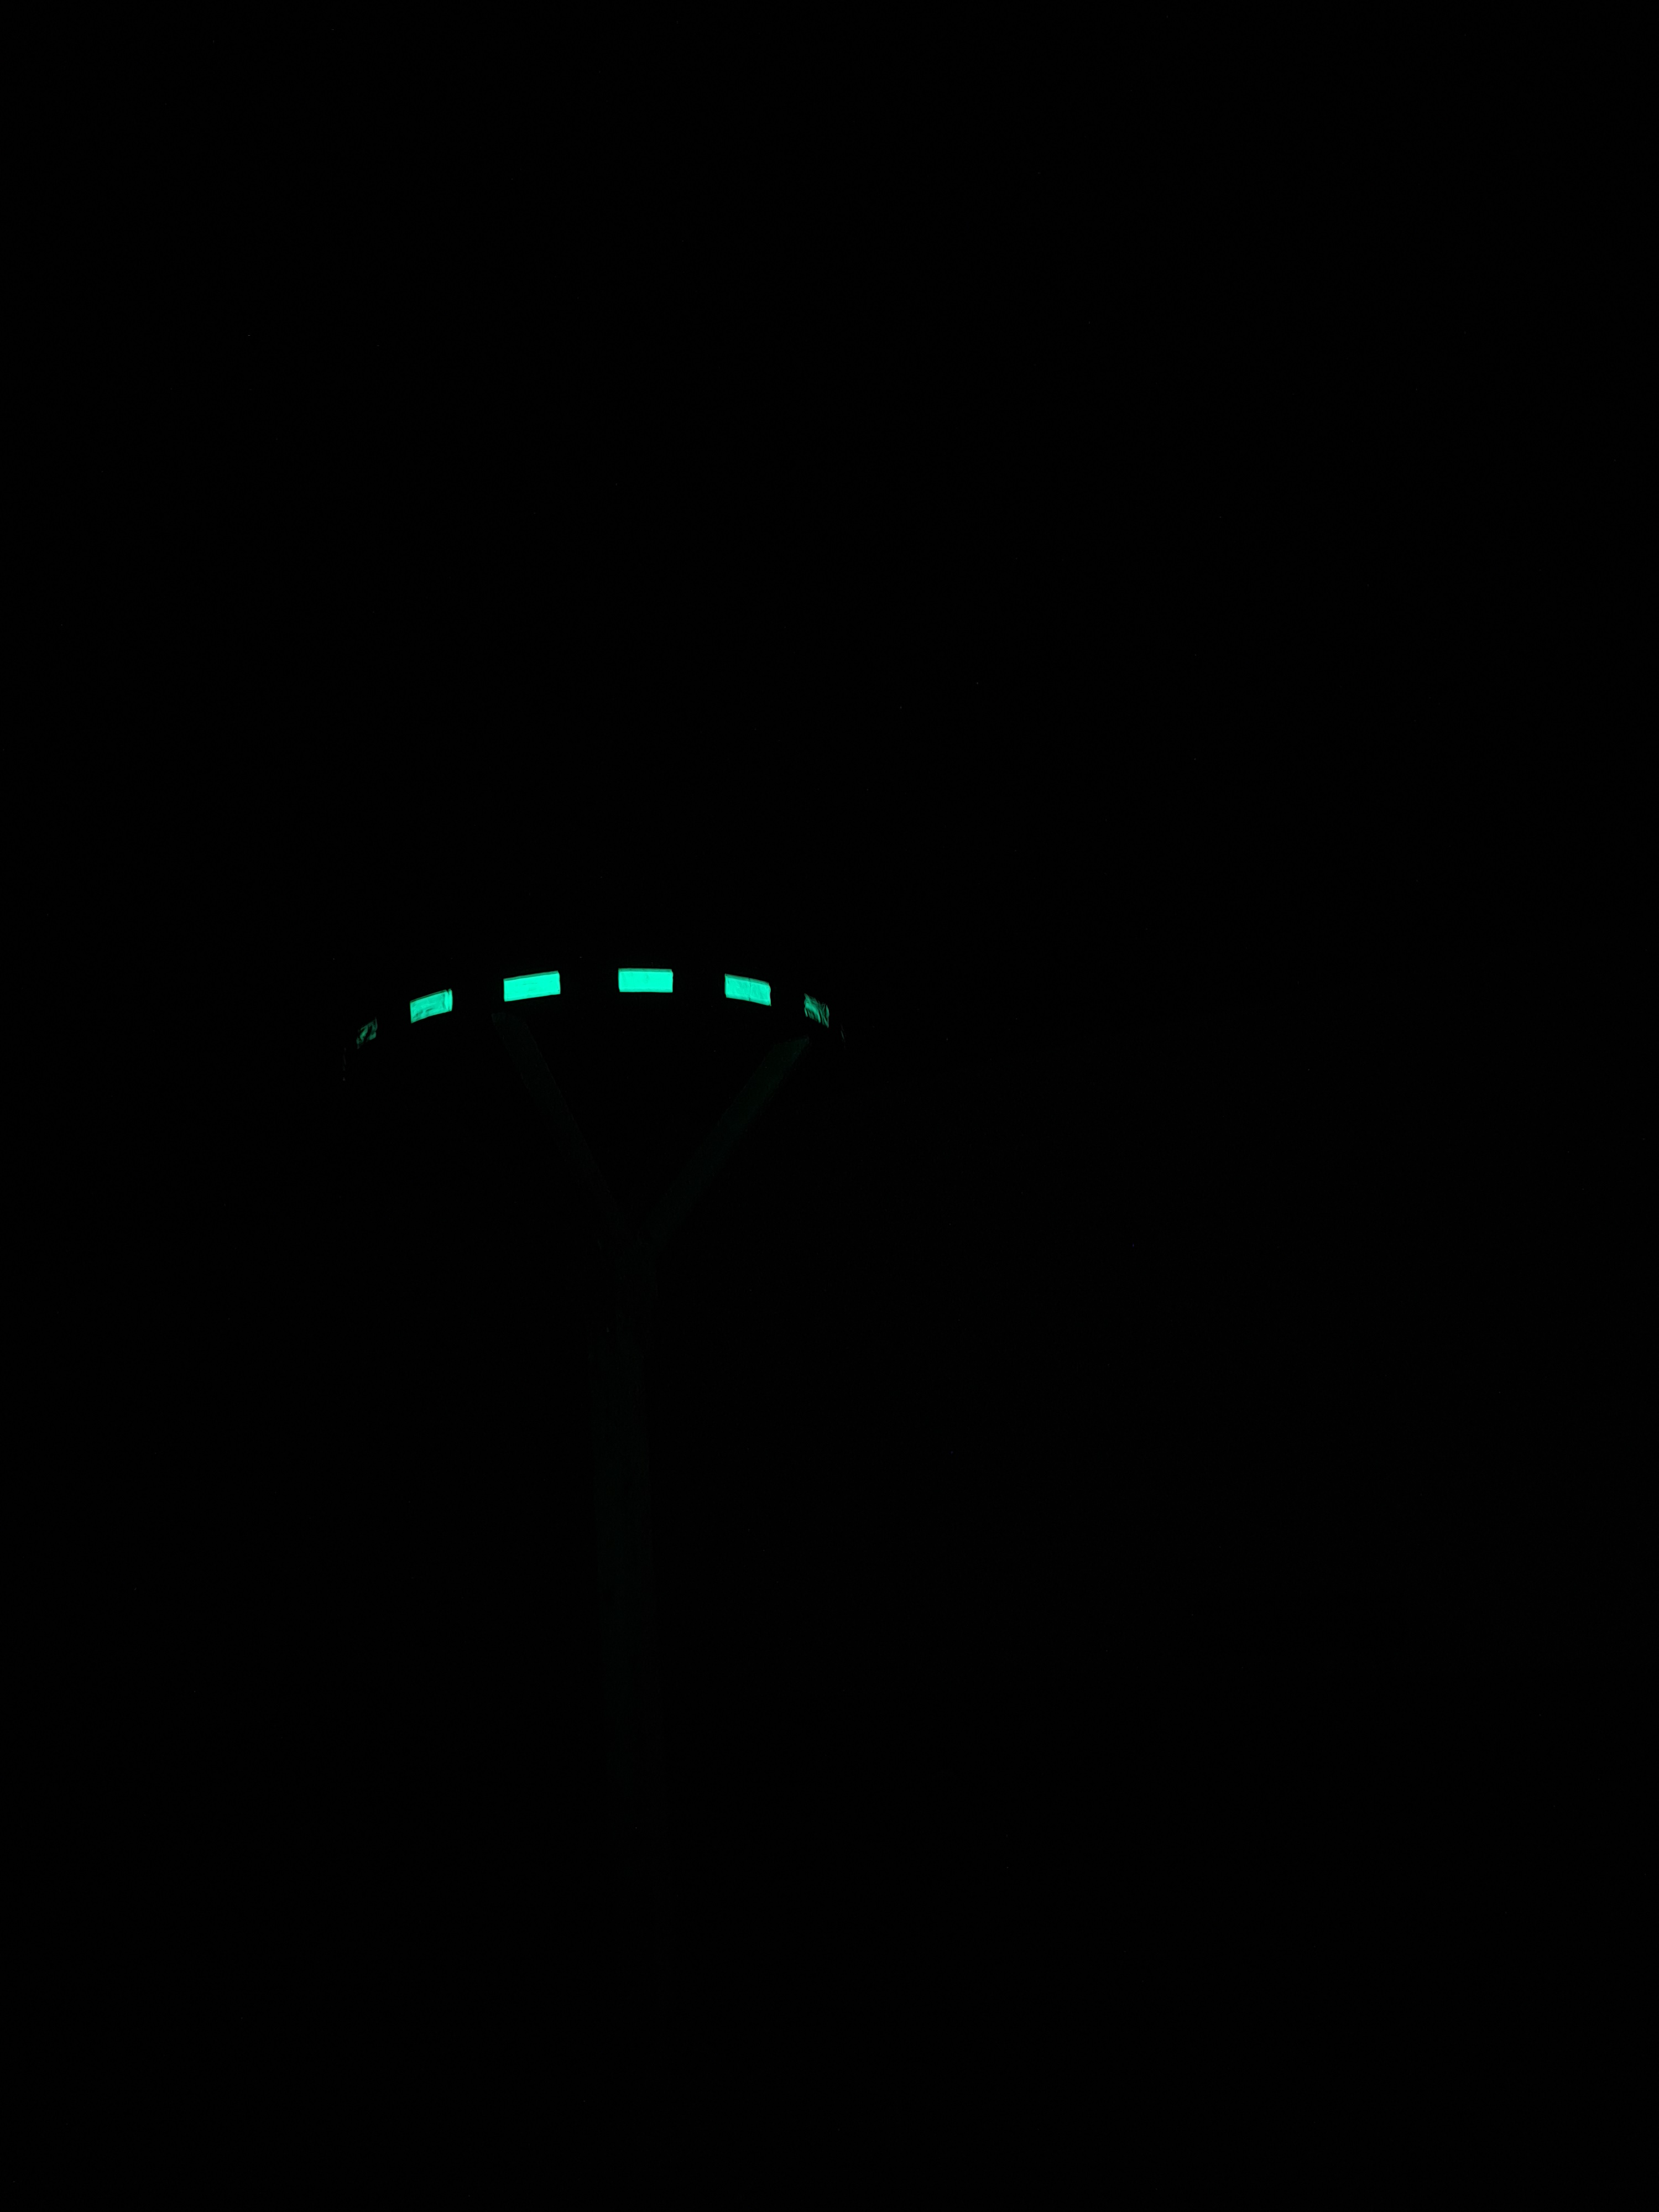hoop: (321, 958, 854, 1057)
